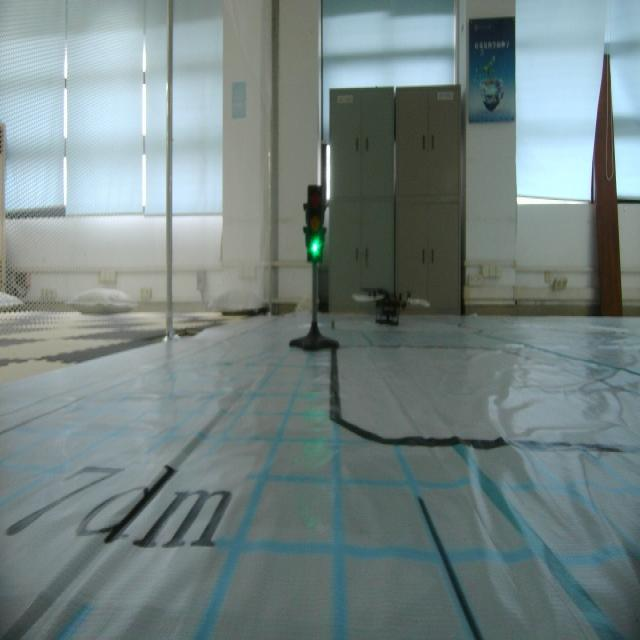green: (299, 177, 331, 266)
